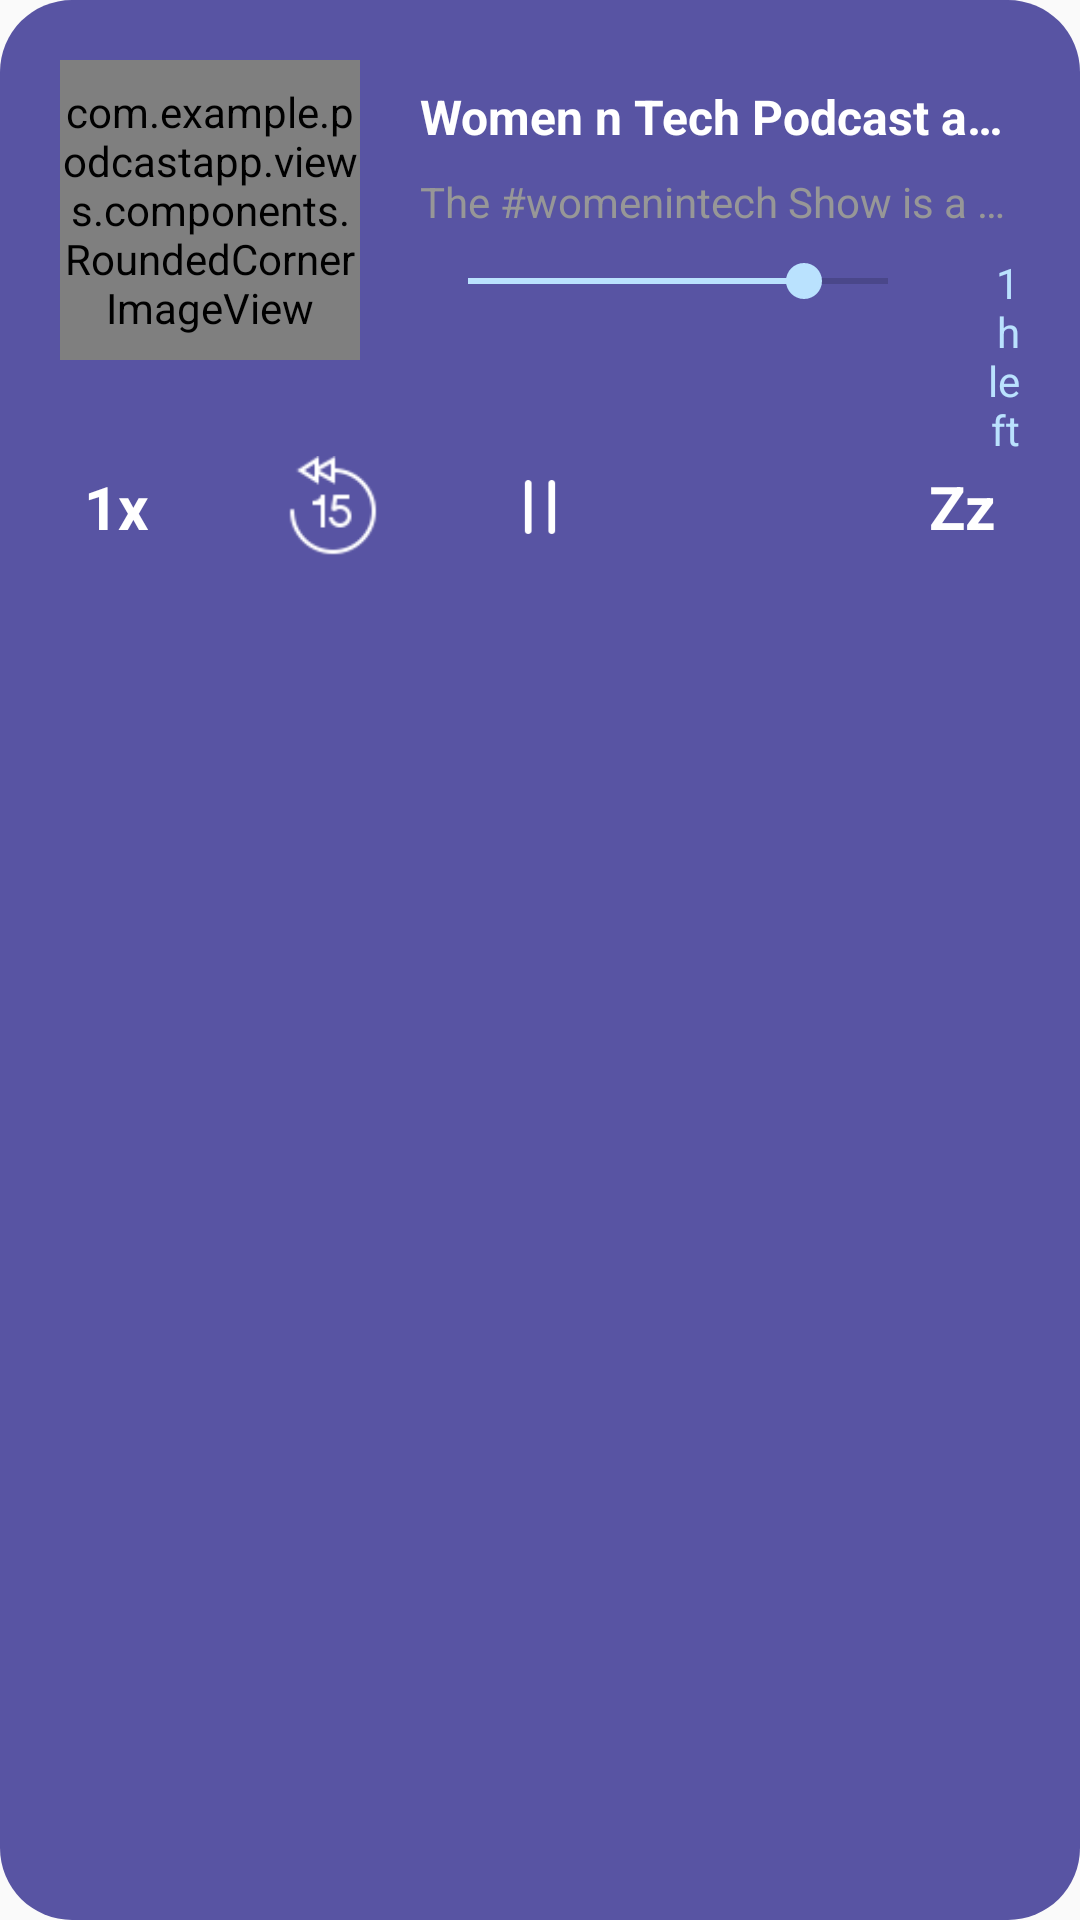

Screen size 1080px×1920px. Icon name, then its center in pixels as point (x, y):
backward: point (333, 505)
pause: point (540, 507)
